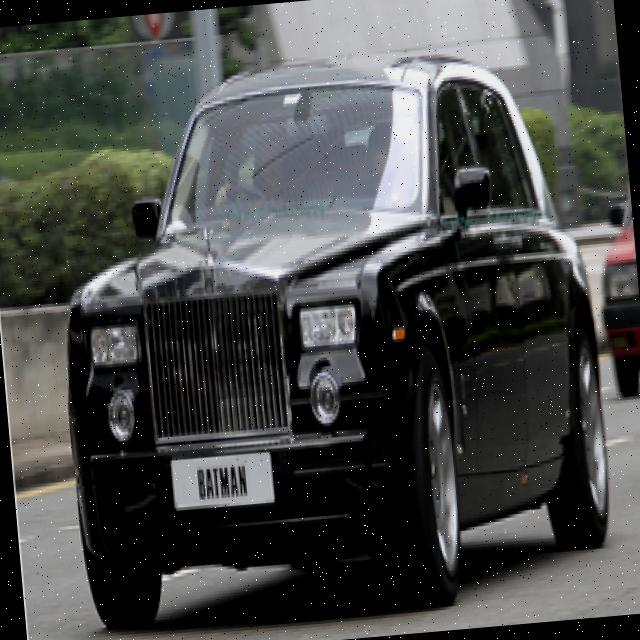Autre: (176, 441, 276, 524)
